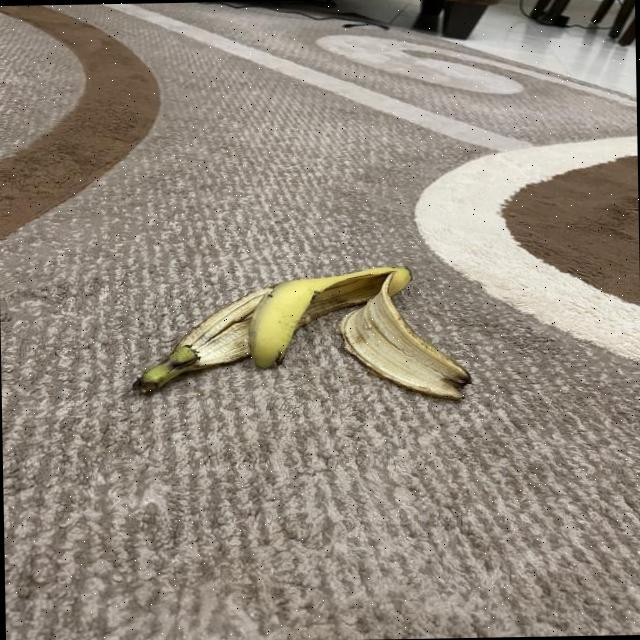banana-peel: (128, 263, 471, 407), (245, 264, 412, 369)
